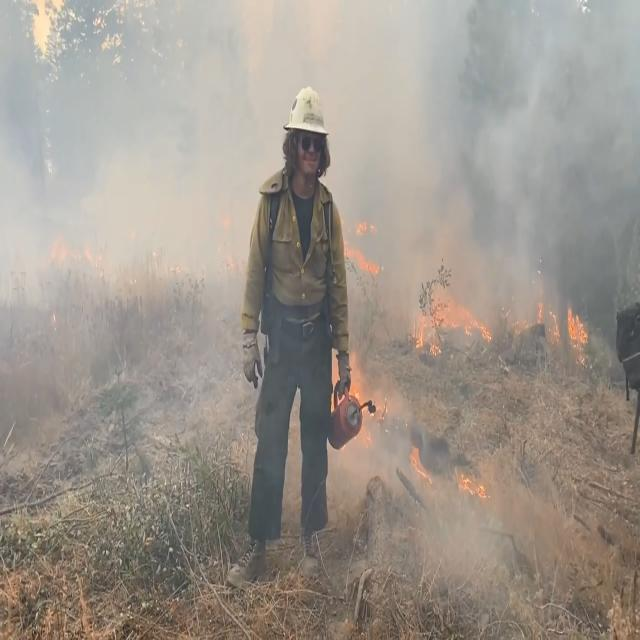Fire: (342, 223, 585, 513)
